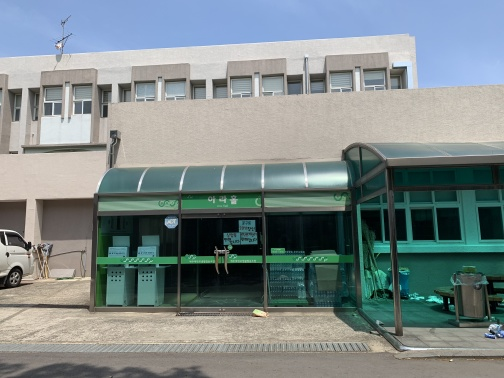Ara Hall: (79, 95, 500, 349)
